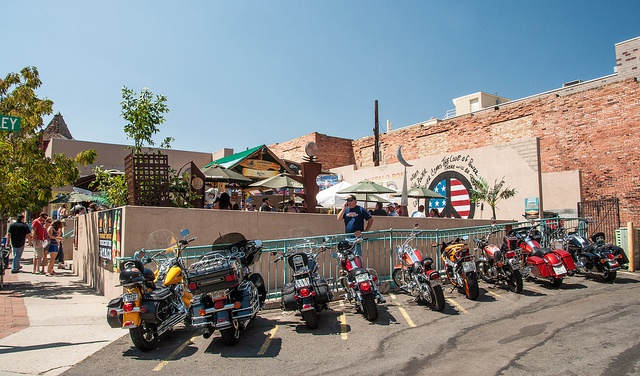non-vehicle: (109, 228, 196, 352), (184, 230, 266, 344), (267, 244, 334, 332), (391, 223, 445, 311), (551, 220, 628, 281), (515, 219, 578, 286), (334, 234, 381, 321), (467, 228, 525, 298), (430, 235, 480, 299)
